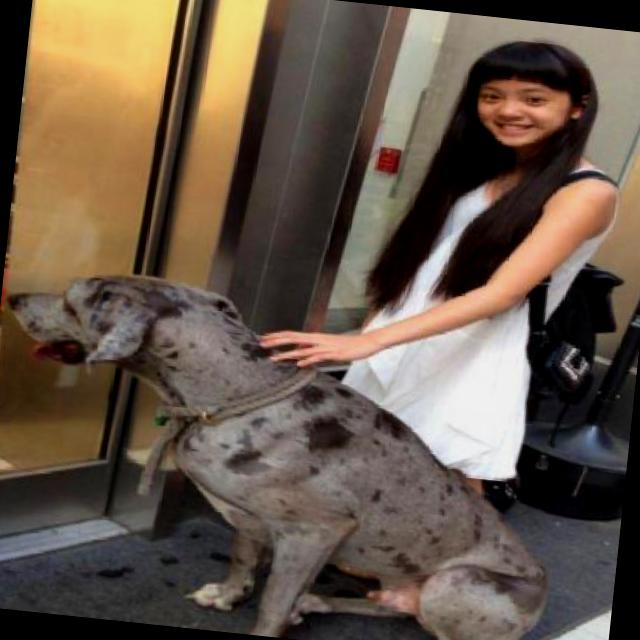Person: (283, 10, 640, 593)
